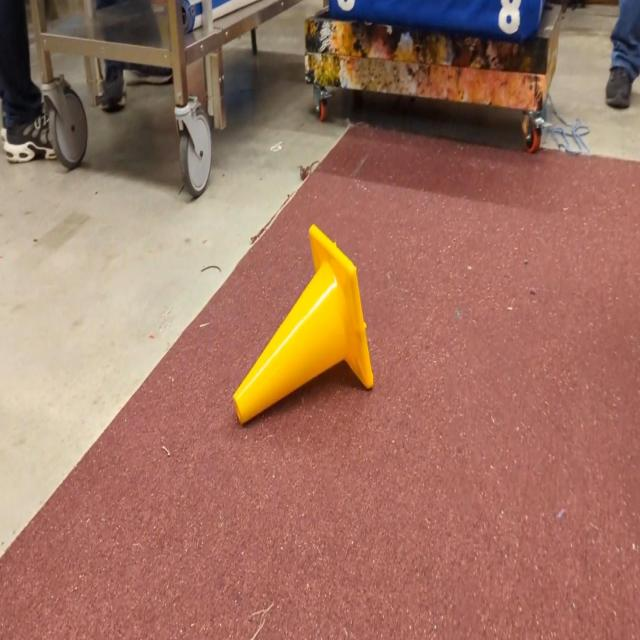frc_cone: (231, 222, 375, 426)
